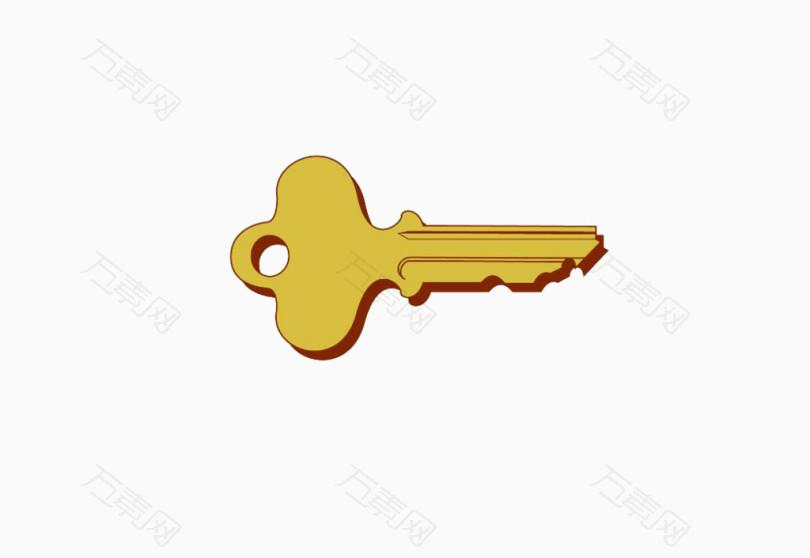key: (217, 146, 635, 370)
